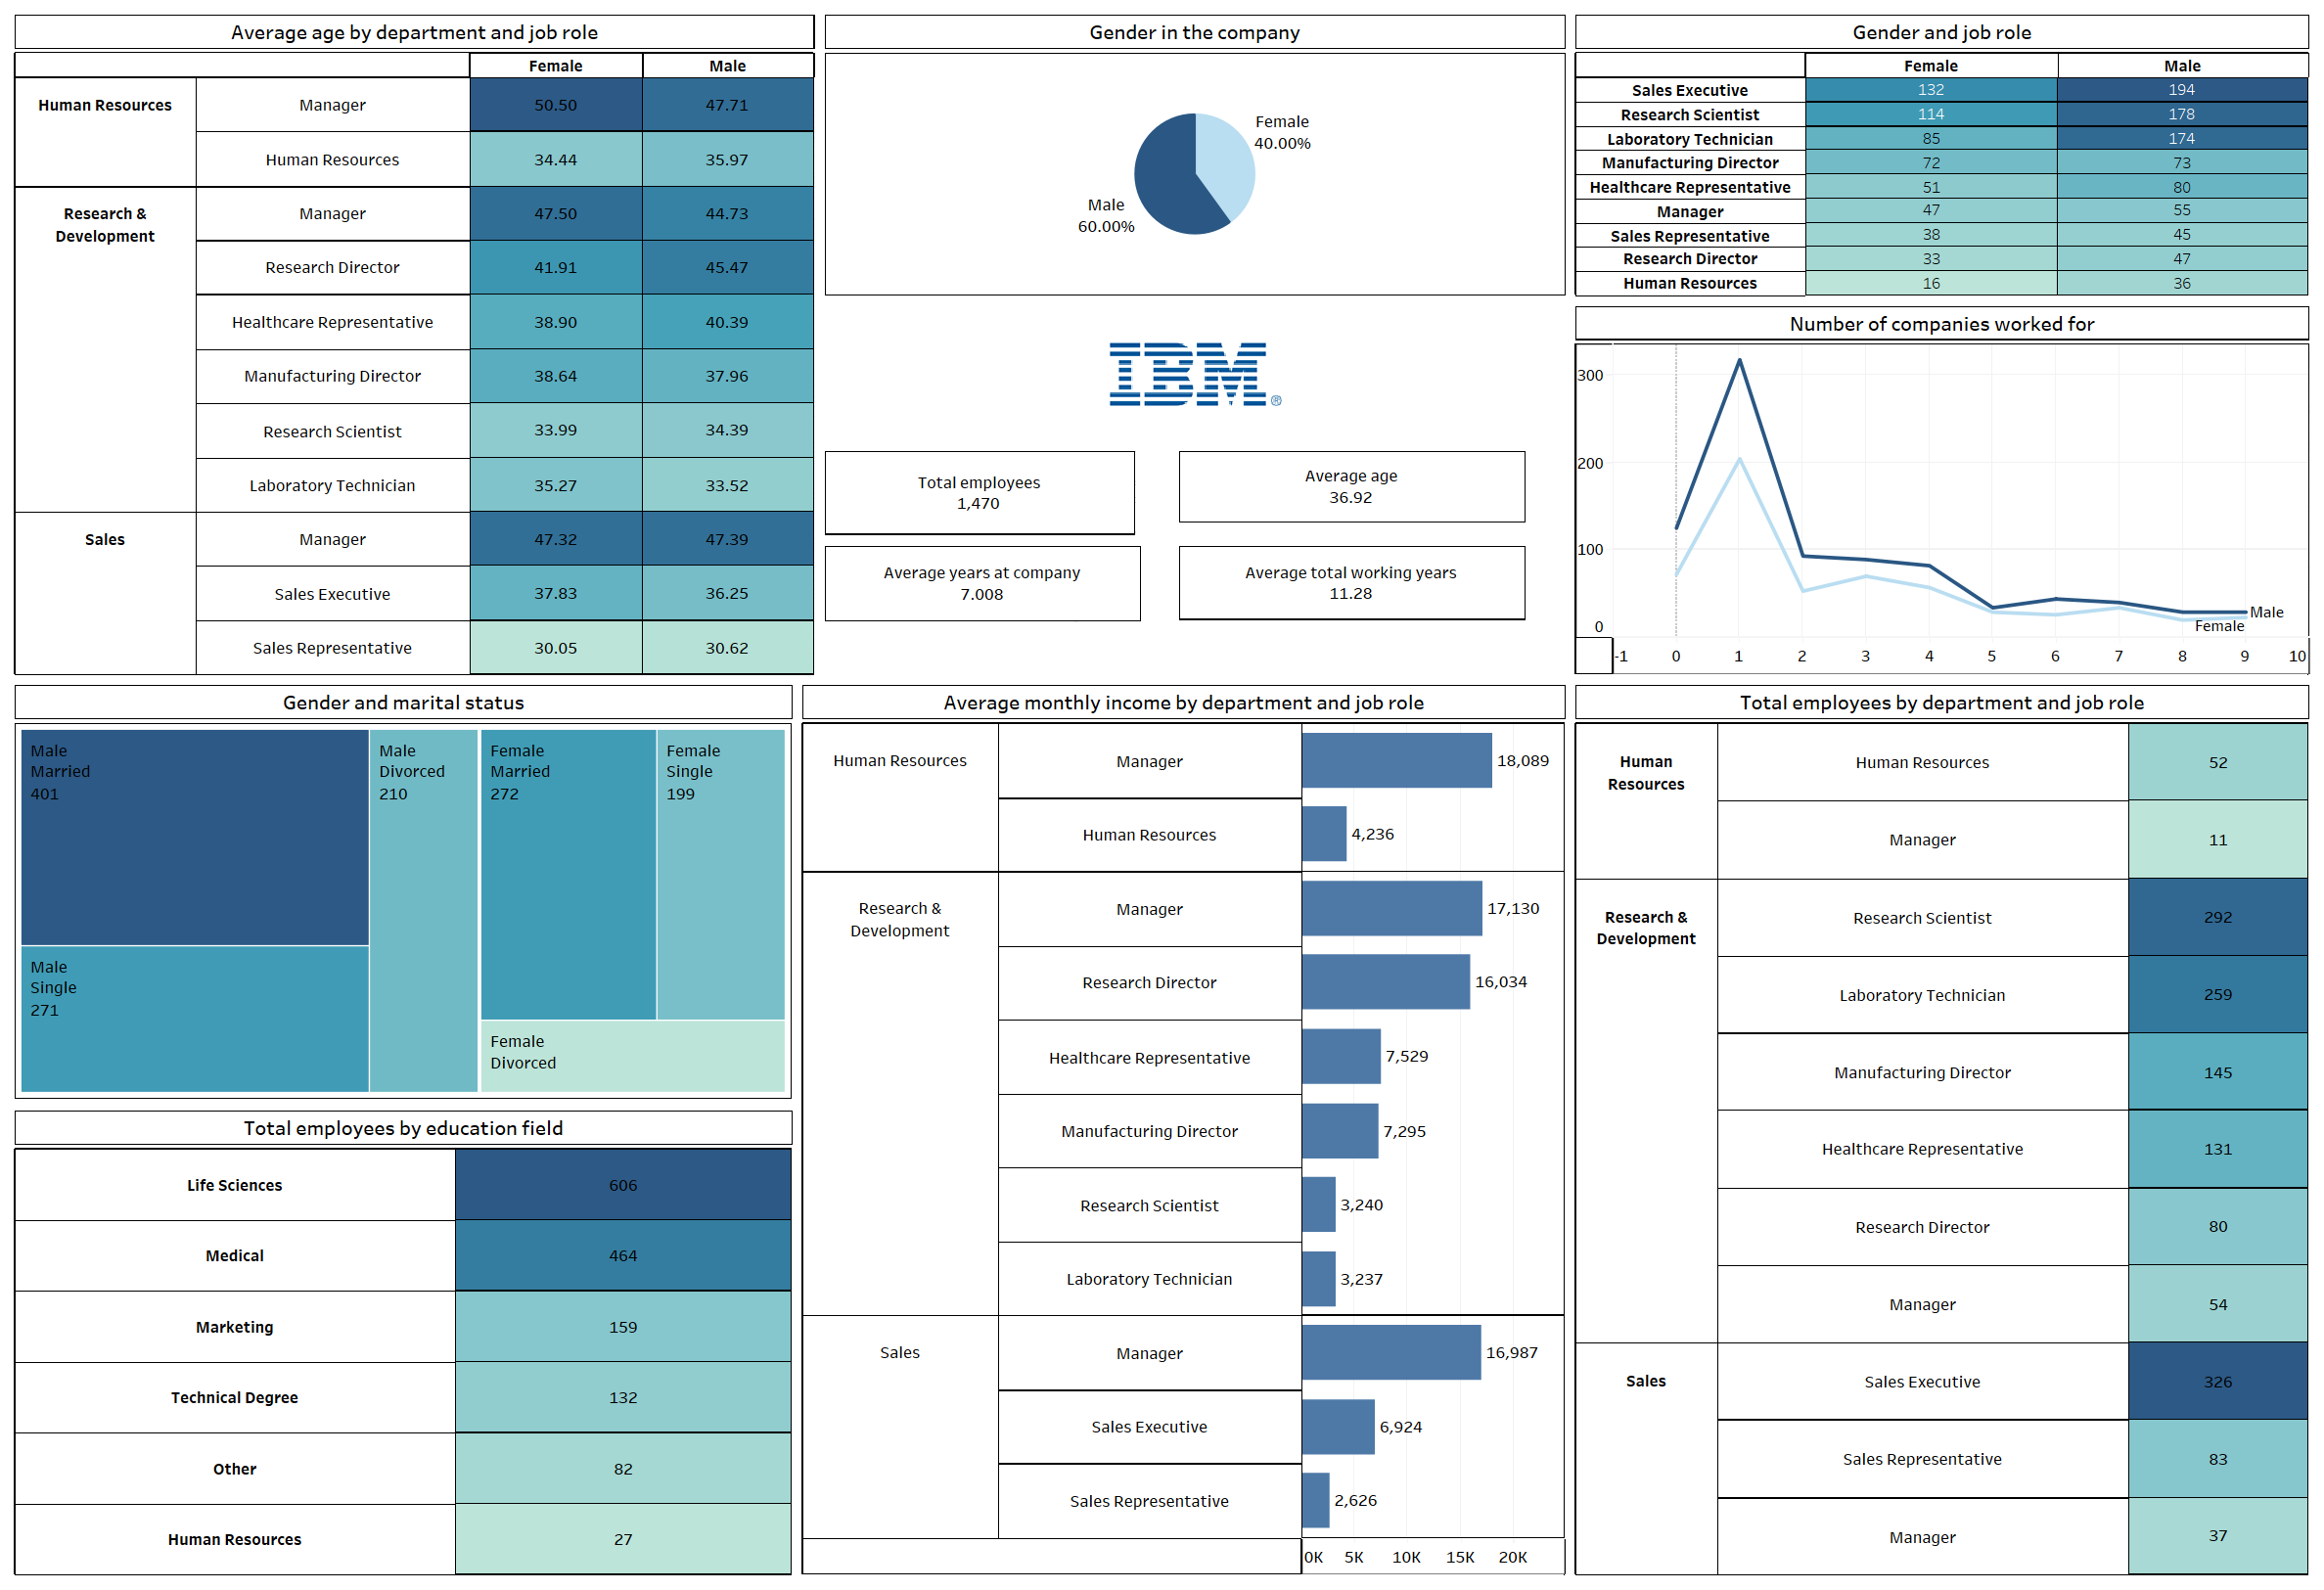

The dashboard page shown, as its layout file describes it:
{"tool":"tableau","page":{"name":"Dashboard 1","canvas":[1900,1300],"ordinal":0},"visuals":[{"type":"worksheet","title":"Average age by department and job role ","mark":"Square","rows":["Department","JobRole"],"cols":["Gender"],"box":[8,8,662,548]},{"type":"worksheet","title":"Gender in the company","mark":"Pie","box":[670,8,614,238]},{"type":"worksheet","title":"Gender and job role","mark":"Square","rows":["JobRole"],"cols":["Gender"],"box":[1284,8,608,238]},{"type":"image","param":"C:/Users/Lenovo/Downloads/IBM_logo_in.jpg","box":[670,246,614,119]},{"type":"worksheet","title":"Number of companies worked for","mark":"Automatic","rows":["Gender"],"cols":["NumCompaniesWorked"],"box":[1284,246,608,310]},{"type":"worksheet","title":"Total employees","mark":"Automatic","box":[670,365,290,77]},{"type":"worksheet","title":"Average age","mark":"Automatic","box":[960,365,324,77]},{"type":"worksheet","title":"Average years at company ","mark":"Automatic","box":[670,442,290,114]},{"type":"worksheet","title":"Average total working years","mark":"Automatic","box":[960,442,324,114]},{"type":"worksheet","title":"Gender and marital status","mark":"Automatic","box":[8,556,644,348]},{"type":"worksheet","title":"Average monthly income by department and job role","mark":"Automatic","rows":["Department","JobRole"],"cols":["MonthlyIncome"],"box":[652,556,632,736]},{"type":"worksheet","title":"Total employees by department and job role ","mark":"Square","rows":["Department","JobRole"],"box":[1284,556,608,736]},{"type":"worksheet","title":"Total employees by education field","mark":"Square","rows":["EducationField"],"box":[8,904,644,388]}]}

Visuals, with their boxes in screenshot pixels (x1, y1, x2, y2), scaled from the page's 1900x1300 canvas onto the 2324x1590 screenshot:
"Average age by department and job role " worksheet (Square marks): [left=10, top=10, right=820, bottom=680]
"Gender in the company" worksheet (Pie marks): [left=820, top=10, right=1571, bottom=301]
"Gender and job role" worksheet (Square marks): [left=1571, top=10, right=2314, bottom=301]
image: [left=820, top=301, right=1571, bottom=446]
"Number of companies worked for" worksheet: [left=1571, top=301, right=2314, bottom=680]
"Total employees" worksheet: [left=820, top=446, right=1174, bottom=540]
"Average age" worksheet: [left=1174, top=446, right=1571, bottom=540]
"Average years at company " worksheet: [left=820, top=540, right=1174, bottom=680]
"Average total working years" worksheet: [left=1174, top=540, right=1571, bottom=680]
"Gender and marital status" worksheet: [left=10, top=680, right=797, bottom=1106]
"Average monthly income by department and job role" worksheet: [left=797, top=680, right=1571, bottom=1580]
"Total employees by department and job role " worksheet (Square marks): [left=1571, top=680, right=2314, bottom=1580]
"Total employees by education field" worksheet (Square marks): [left=10, top=1106, right=797, bottom=1580]
